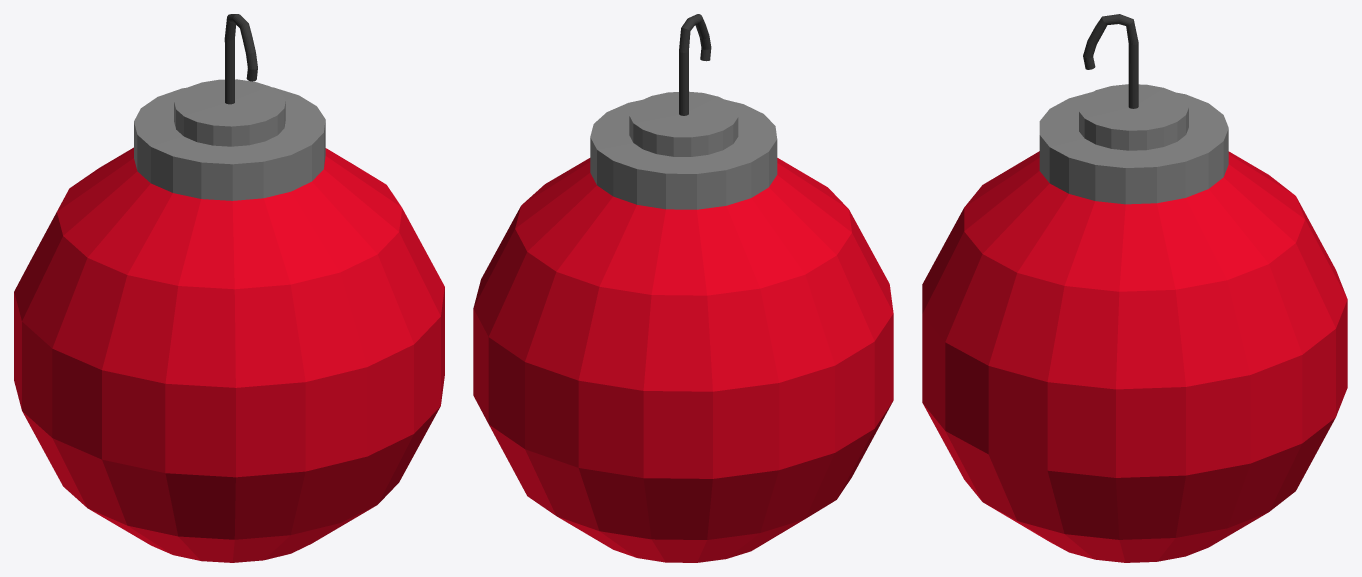
The model's file is Ornament.fbx.
3 views of the same model, side by side, from view 1: azimuth 30°, elevation 25°; view 2: azimuth 150°, elevation 25°; view 3: azimuth 270°, elevation 25° (orthographic). The views are drawn at different scales.
Parts seen in each view (by area): view 1: Sphere; view 2: Sphere; view 3: Sphere.
Boxes of the visible parts, bbox=[...] form: Sphere: bbox=[14, 14, 444, 562]; Sphere: bbox=[473, 14, 893, 562]; Sphere: bbox=[922, 14, 1347, 562].
Size of the model in its own units: 194 by 265 by 194.
